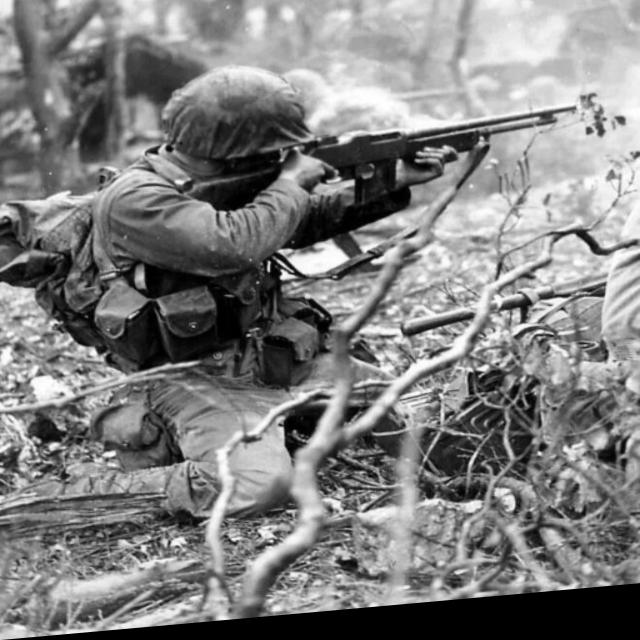other: (24, 63, 368, 529)
